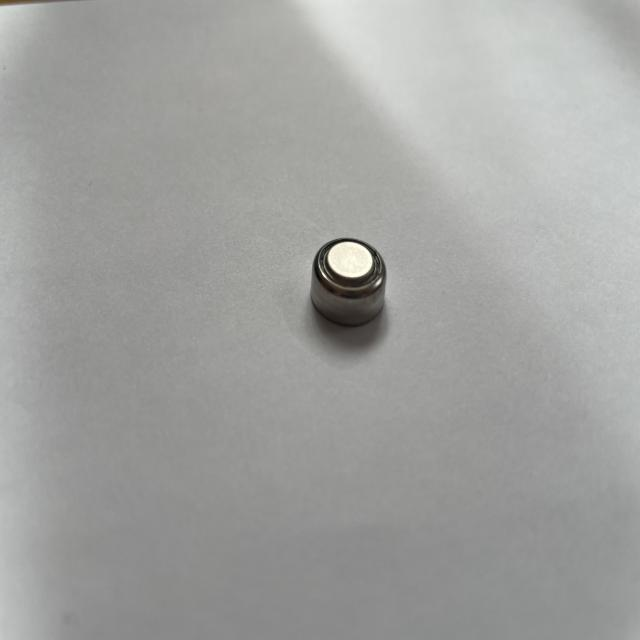COIN: (308, 236, 388, 326)
